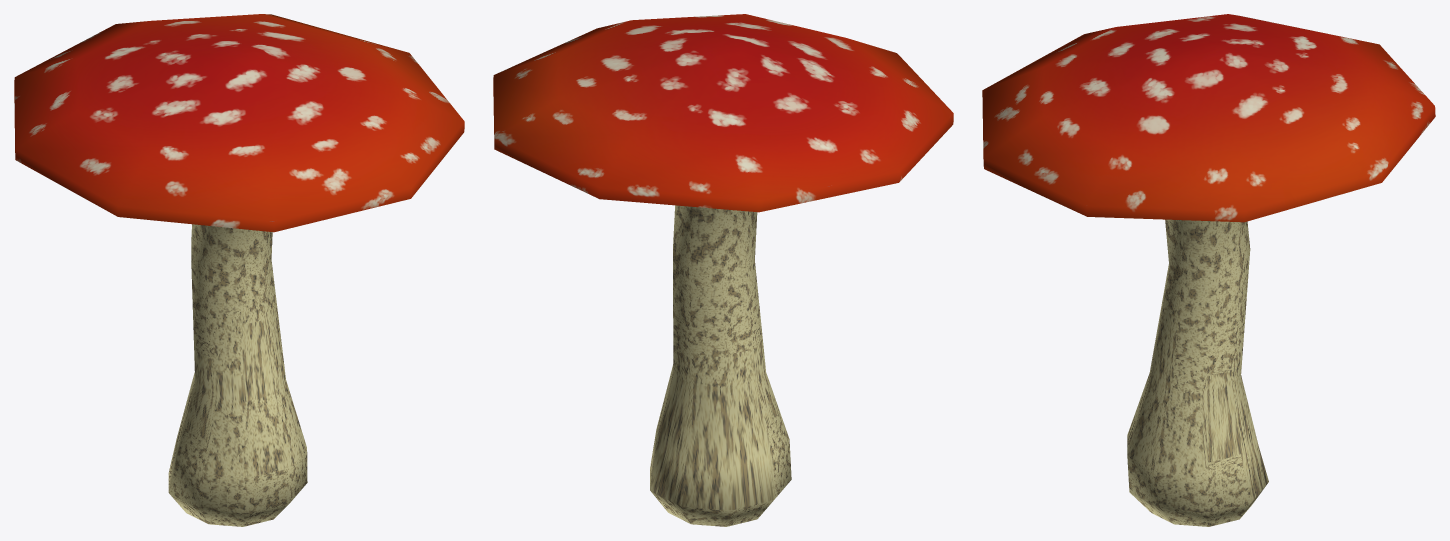
Rendered from shroom.fbx.
3 renders of one model, left to right at view 1: azimuth 30°, elevation 25°; view 2: azimuth 150°, elevation 25°; view 3: azimuth 270°, elevation 25°, orthographic. The views are drawn at different scales.
Visible parts, largest first — view 1: ShroomFinal; view 2: ShroomFinal; view 3: ShroomFinal.
Part boxes in pixels (<box>): ShroomFinal: <box>14,14,464,526</box>; ShroomFinal: <box>493,14,953,526</box>; ShroomFinal: <box>982,14,1435,526</box>.
Bounding box in the file's own units: 0.432 × 0.4687 × 0.426.
